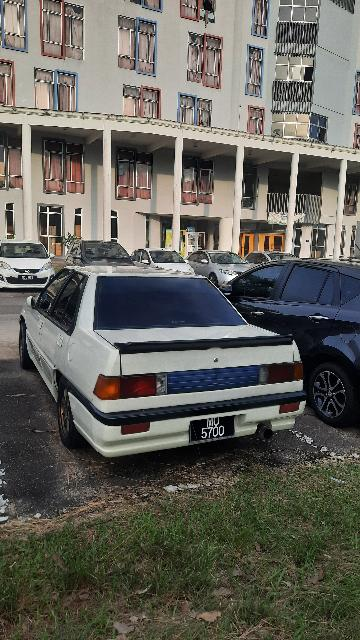License_Plate: (185, 409, 242, 445)
car: (7, 266, 305, 456), (220, 258, 360, 426), (2, 233, 55, 296), (195, 250, 257, 302), (136, 243, 196, 291), (63, 243, 130, 285)
